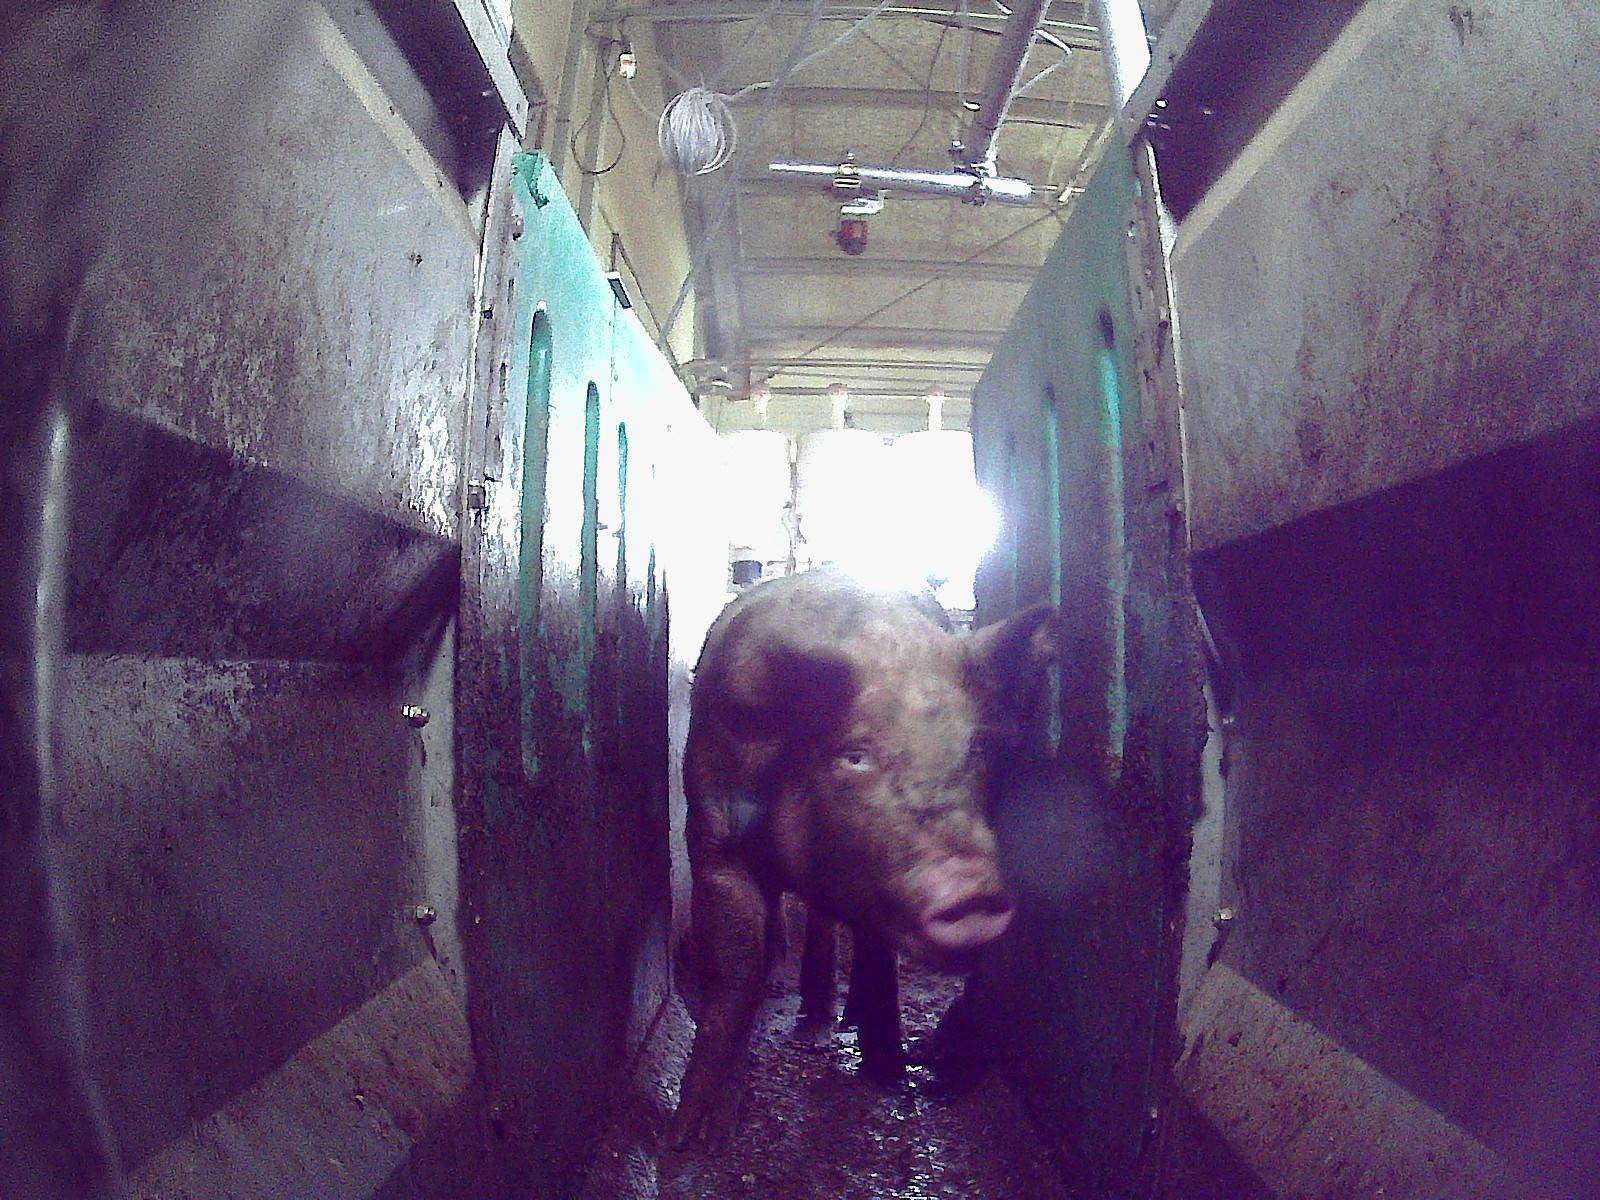Face: (790, 654, 1016, 970)
